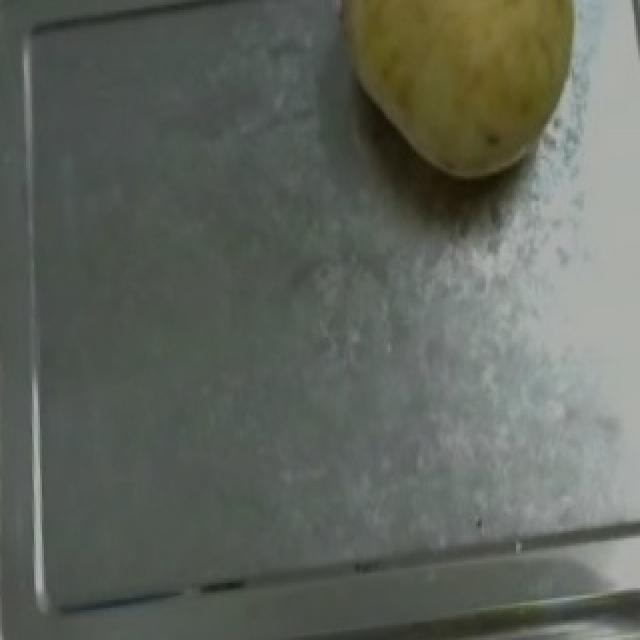Fruit: (306, 0, 614, 208)
